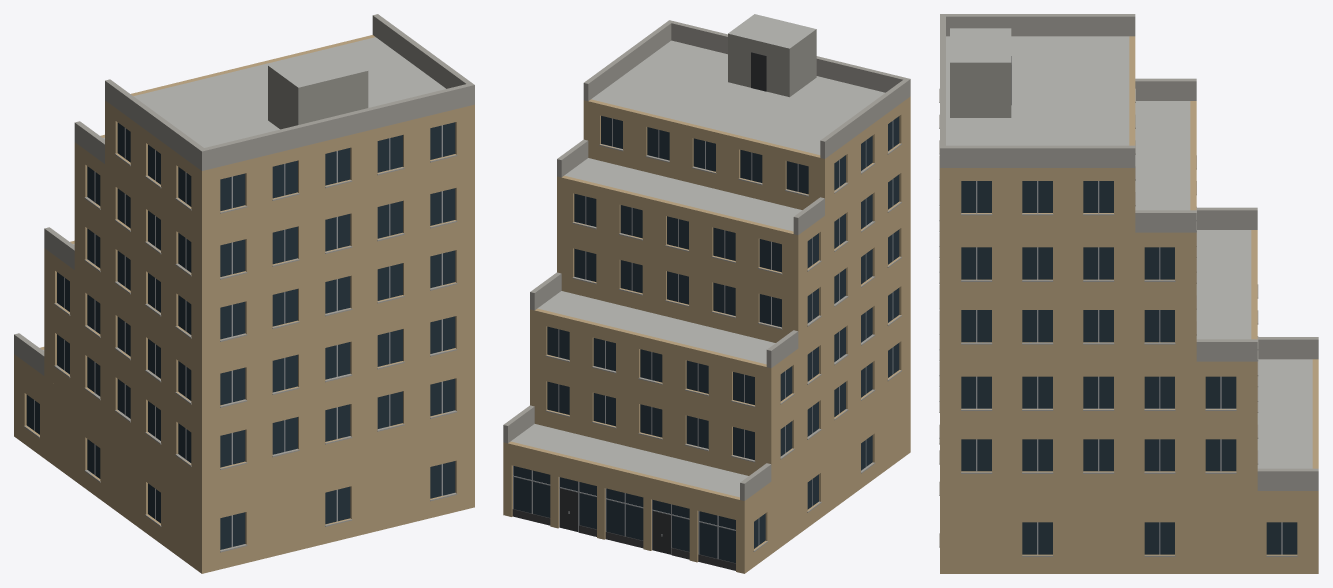
Rendered from bld_t4_sixstorey_apartments.glb.
The picture shows the model from 3 angles, left to right: view 1: azimuth 30°, elevation 25°; view 2: azimuth 150°, elevation 25°; view 3: azimuth 270°, elevation 25°; orthographic projection. The views are drawn at different scales.
Parts seen in each view (by area): view 1: bld_t4_sixstorey_apartments-col; view 2: bld_t4_sixstorey_apartments-col; view 3: bld_t4_sixstorey_apartments-col.
Boxes of the visible parts, x1=… form: bld_t4_sixstorey_apartments-col: x1=14, y1=14, x2=474, y2=573; bld_t4_sixstorey_apartments-col: x1=503, y1=14, x2=910, y2=573; bld_t4_sixstorey_apartments-col: x1=939, y1=14, x2=1318, y2=573.
Bounding box in the file's own units: 15.66 × 25 × 18.63.
